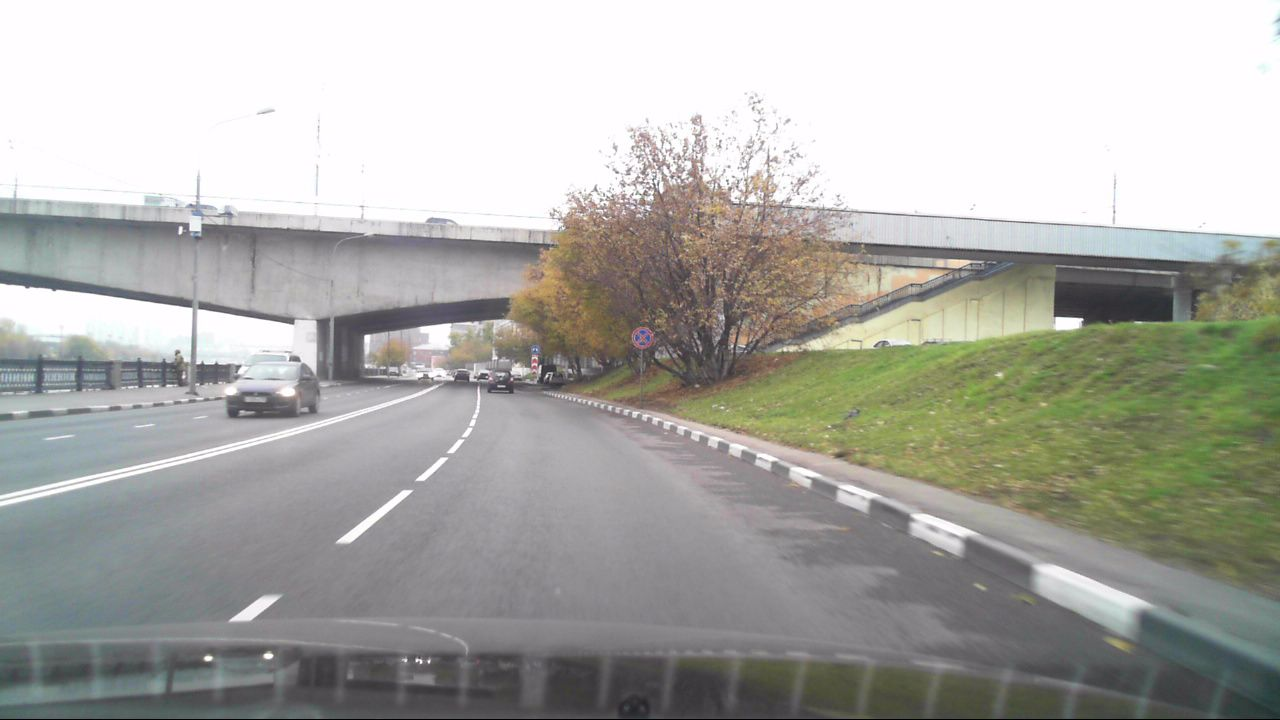No Parking: (630, 325, 655, 349)
